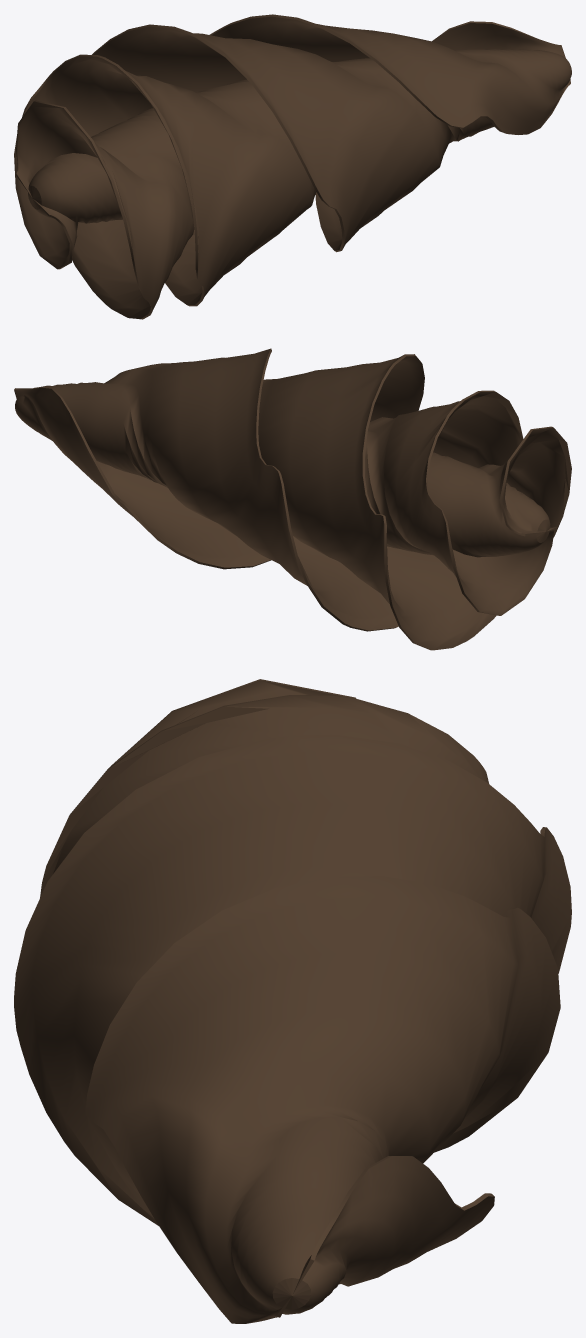
The model's file is NEW683_SharkEggcase_LOD2_v001.glb.
3 renders of one model, top to bottom at view 1: azimuth 30°, elevation 25°; view 2: azimuth 150°, elevation 25°; view 3: azimuth 270°, elevation 25°, orthographic. The views are drawn at different scales.
Parts seen in each view (by area): view 1: NEW683_Whole_SharkEggcase_LOD2; view 2: NEW683_Whole_SharkEggcase_LOD2; view 3: NEW683_Whole_SharkEggcase_LOD2.
Part boxes in pixels (x1,y1,x2,y2): NEW683_Whole_SharkEggcase_LOD2: (14, 14, 571, 319); NEW683_Whole_SharkEggcase_LOD2: (14, 348, 571, 650); NEW683_Whole_SharkEggcase_LOD2: (14, 679, 571, 1323).
Bounding box in the file's own units: 0.15 × 0.068 × 0.075.
